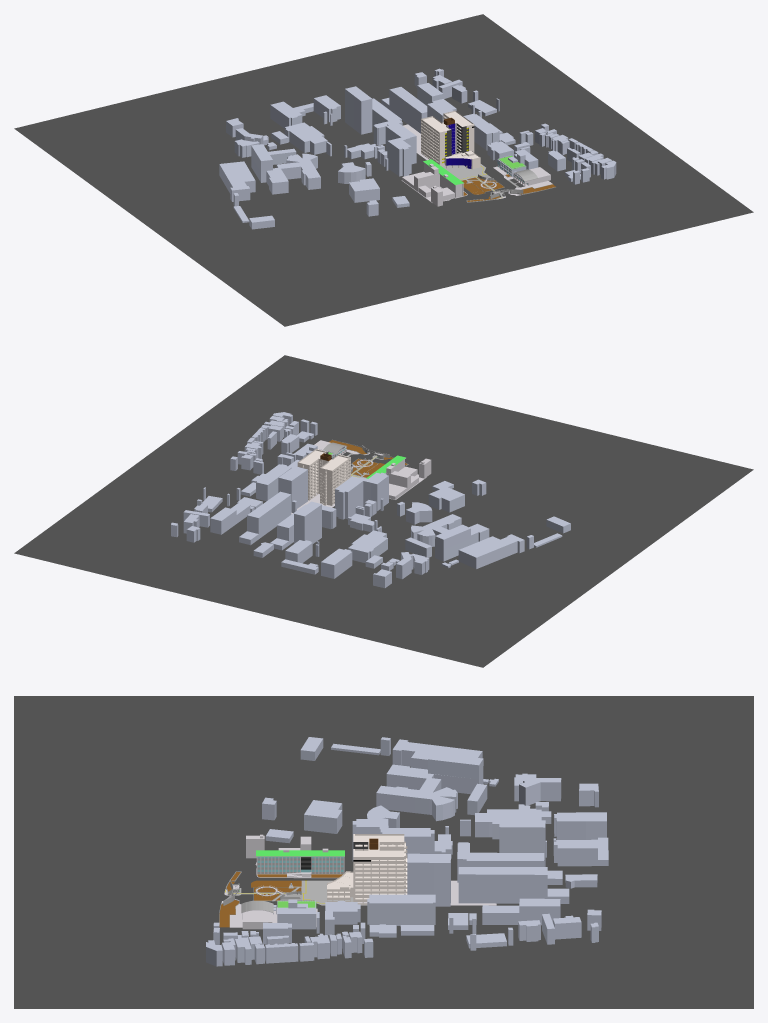
Rendered from seimon.fbx.
3 views of the same model, one above another, from view 1: azimuth 30°, elevation 25°; view 2: azimuth 150°, elevation 25°; view 3: azimuth 270°, elevation 25° (orthographic). The views are drawn at different scales.
Visible parts, largest first — view 1: Circle, Areas:building, Plane; view 2: Circle, Areas:building, Plane; view 3: Circle, Areas:building, Plane.
Boxes of the visible parts, bbox=[...] form: Circle: bbox=[14, 14, 753, 326]; Areas:building: bbox=[219, 68, 616, 229]; Plane: bbox=[421, 110, 480, 169]; Circle: bbox=[14, 355, 753, 667]; Areas:building: bbox=[171, 412, 570, 588]; Plane: bbox=[297, 448, 350, 505]; Circle: bbox=[14, 696, 753, 1008]; Areas:building: bbox=[206, 737, 608, 966]; Plane: bbox=[327, 834, 407, 904].
Size of the model in its own units: 334442 by 31056 by 334442.
